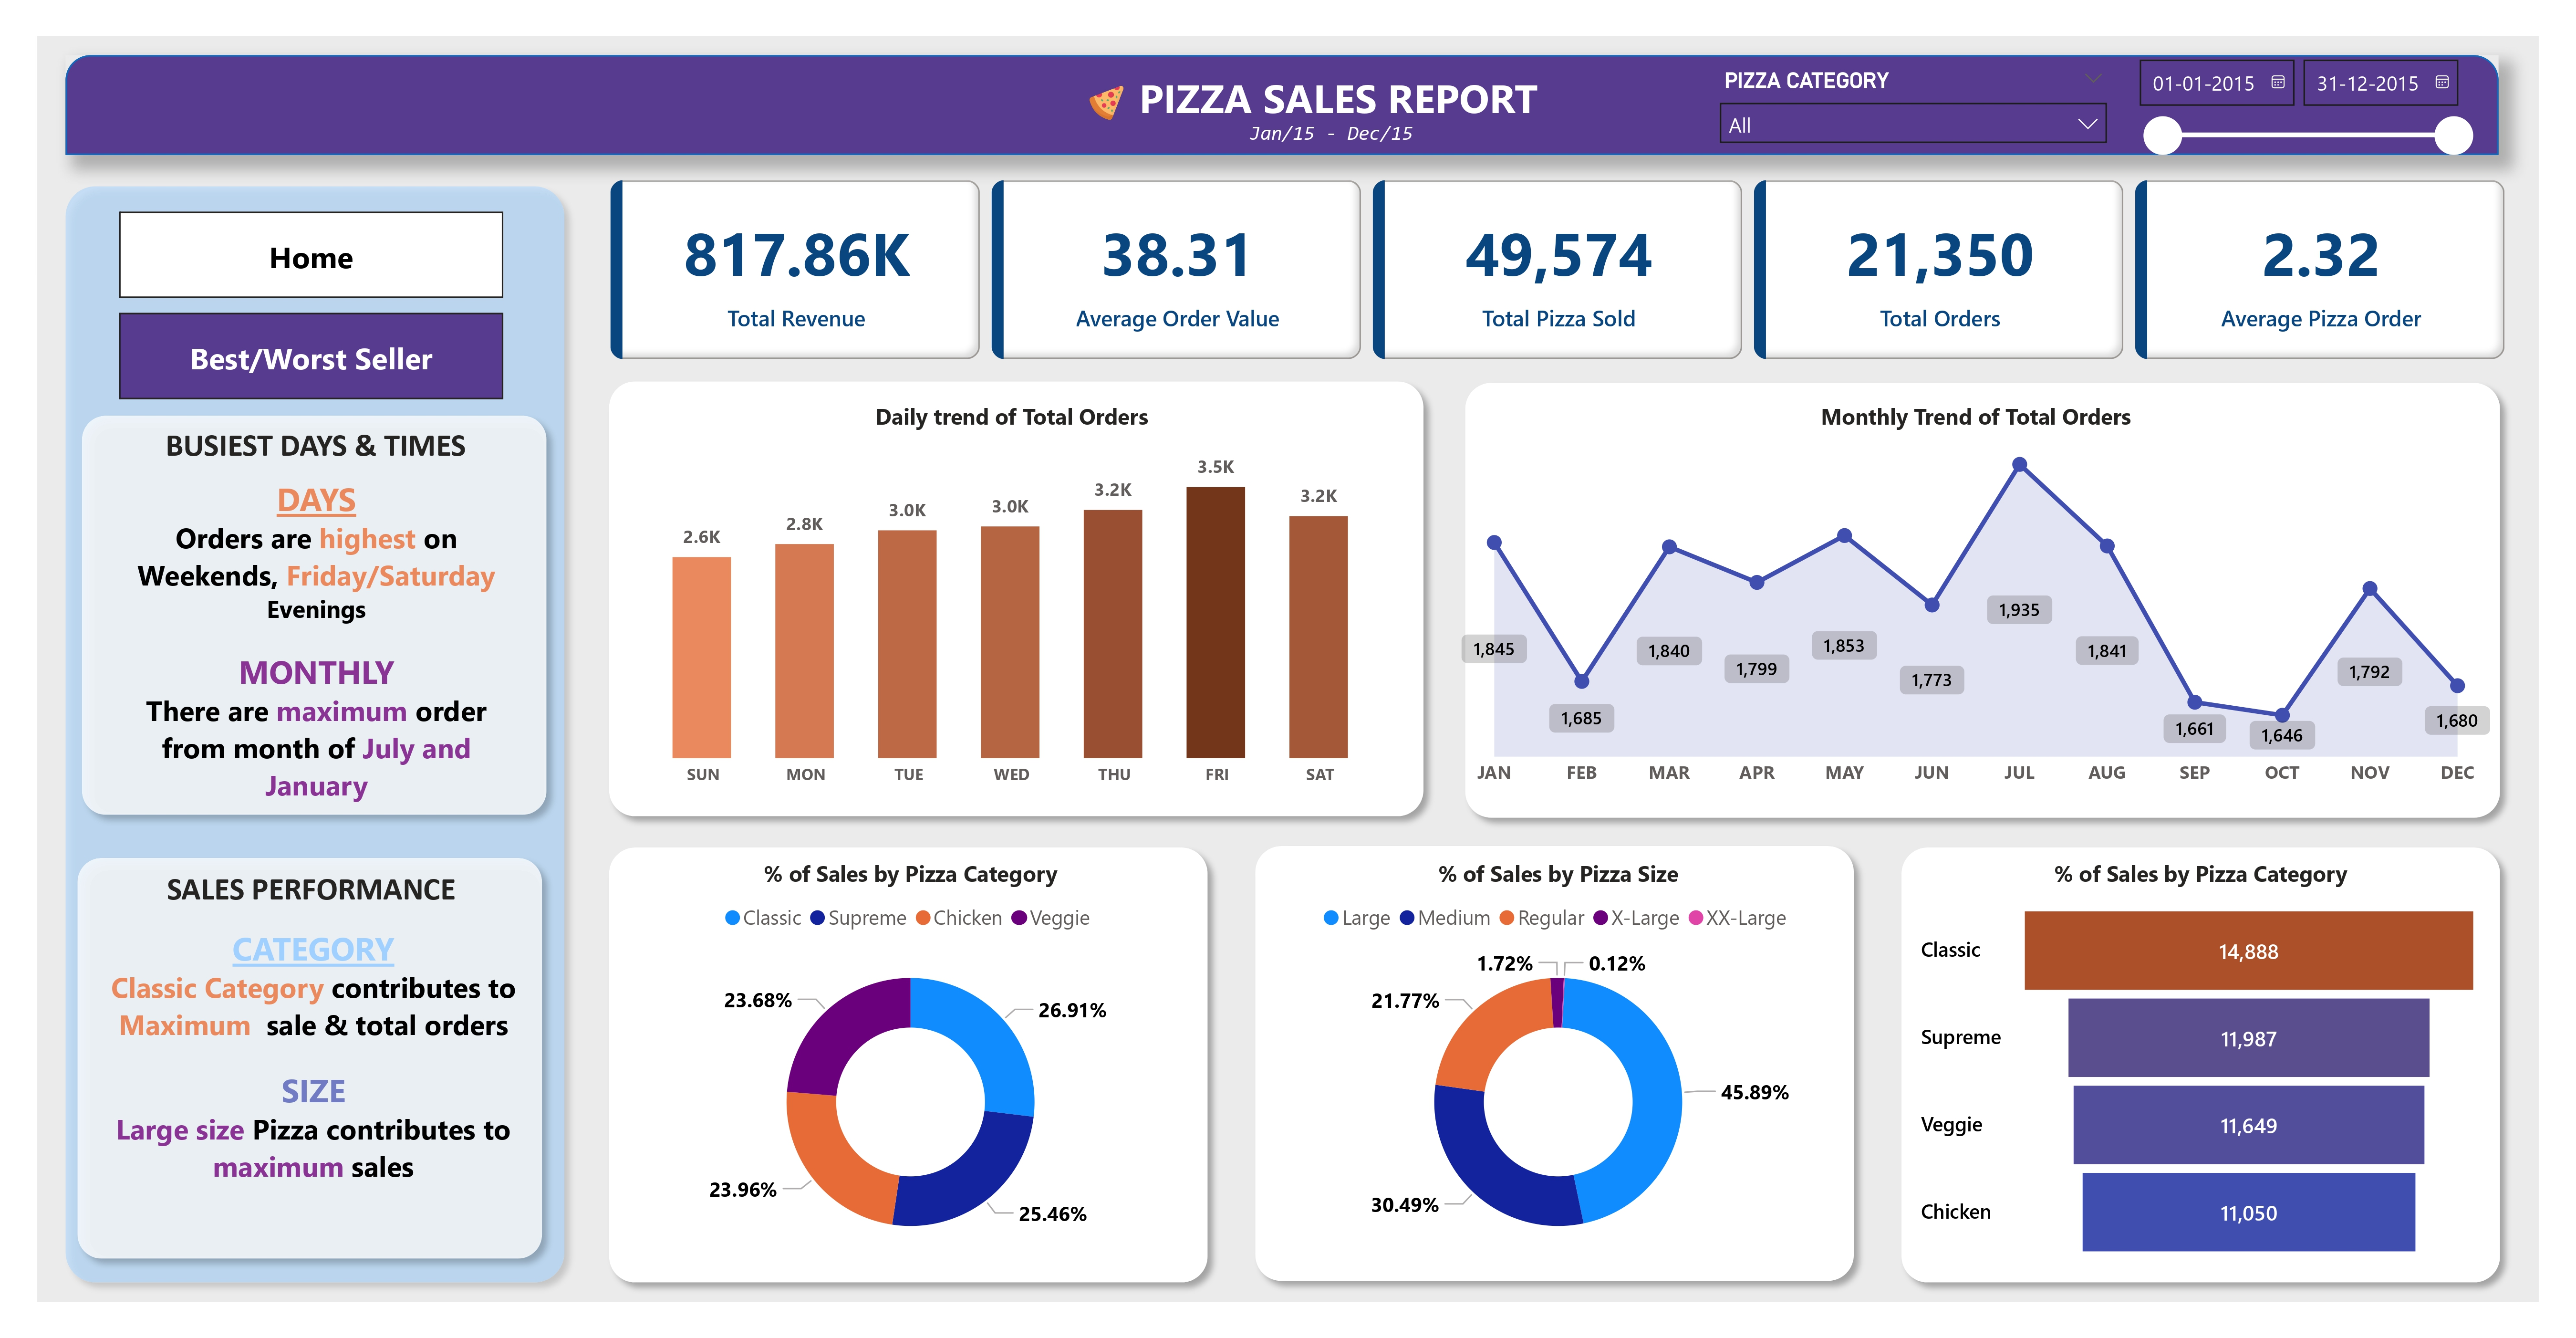

The page's visual inventory and layout, read from the dashboard file:
{"tool":"powerbi","page":{"name":"Home","canvas":[1680,850],"ordinal":0},"visuals":[{"type":"cardVisual","fields":{"Data":["Meas.Total Revenue","Meas.Average Order Value","Meas.Total Pizza Sold","Meas.Total Orders","Meas.Average Pizza Order"]},"box":[379.8,92.2,1283.3,130],"z":0},{"type":"shape","box":[18.6,12.9,1634.3,67.1],"z":1000},{"type":"textbox","box":[735.4,18.3,288.9,64.4],"z":2000},{"type":"textbox","box":[808.7,50.6,142.2,33.3],"z":3000},{"type":"image","box":[700.9,25,34.4,38.9],"z":4000},{"type":"shape","box":[374.5,222.6,565,310.2],"z":5000},{"type":"clusteredColumnChart","title":"Daily trend of Total Orders","fields":{"Category":["Pizza_sale.Order Day"],"Y":["Meas.Total Orders"]},"box":[393.7,244.8,521.7,268.3],"z":6000},{"type":"shape","box":[949.8,223.9,713.3,310],"z":7000},{"type":"stackedAreaChart","title":"Monthly Trend of Total Orders","fields":{"Category":["Pizza_sale.Order Month"],"Y":["Meas.Total Orders"]},"box":[950.3,244.8,703.3,268.3],"z":8000},{"type":"shape","box":[374.8,535.6,420,310],"z":9000},{"type":"shape","box":[809,535.2,420,310],"z":10000},{"type":"shape","box":[1243.2,535.6,420,310],"z":11000},{"type":"donutChart","title":"% of Sales by Pizza Category","fields":{"Category":["Pizza_sale.pizza_category"],"Y":["Meas.Total Revenue"]},"box":[393.2,552.2,386.7,278.3],"z":12000},{"type":"donutChart","title":"% of Sales by Pizza Size","fields":{"Y":["Meas.Total Revenue"],"Category":["Pizza_sale.pizza_size"]},"box":[828.2,552.2,386.7,278.3],"z":13000},{"type":"funnel","title":"% of Sales by Pizza Category","fields":{"Category":["Pizza_sale.pizza_category"],"Y":["Meas.Total Pizza Sold"]},"box":[1259.8,552.2,386.7,278.3],"z":14000},{"type":"shape","box":[9.8,92.2,353.3,753.3],"z":15000},{"type":"shape","box":[21.5,245.6,330,286.7],"z":16000},{"type":"textbox","box":[68.2,257.2,238.3,41.7],"z":17000},{"type":"textbox","box":[44.8,290.6,285,236.7],"z":18000},{"type":"shape","box":[18.2,543,330,286.7],"z":19000},{"type":"textbox","box":[64.8,554.7,238.3,41.7],"z":20000},{"type":"textbox","box":[43.2,593,285,216.7],"z":21000},{"type":"slicer","fields":{"Values":["Pizza_sale.pizza_category"]},"box":[1120,16.7,280,60],"z":22000},{"type":"slicer","fields":{"Values":["Pizza_sale.order_date"]},"box":[1398.6,5.7,245.7,82.9],"z":23000},{"type":"pageNavigator","box":[55,118.3,258.3,126.7],"z":23001}]}

Visuals, with their boxes on the page's 1680x850 design canvas (x1, y1, x2, y2). These are canvas units, not pixel positions in the 2576x1338 screenshot, which may show the page scaled, cropped or inside an application window:
cardVisual - Meas.Total Revenue x Meas.Average Order Value: box(380, 92, 1663, 222)
shape: box(19, 13, 1653, 80)
textbox: box(735, 18, 1024, 83)
textbox: box(809, 51, 951, 84)
image: box(701, 25, 735, 64)
shape: box(374, 223, 940, 533)
"Daily trend of Total Orders" clusteredColumnChart: box(394, 245, 915, 513)
shape: box(950, 224, 1663, 534)
"Monthly Trend of Total Orders" stackedAreaChart: box(950, 245, 1654, 513)
shape: box(375, 536, 795, 846)
shape: box(809, 535, 1229, 845)
shape: box(1243, 536, 1663, 846)
"% of Sales by Pizza Category" donutChart: box(393, 552, 780, 830)
"% of Sales by Pizza Size" donutChart: box(828, 552, 1215, 830)
"% of Sales by Pizza Category" funnel: box(1260, 552, 1646, 830)
shape: box(10, 92, 363, 846)
shape: box(22, 246, 352, 532)
textbox: box(68, 257, 306, 299)
textbox: box(45, 291, 330, 527)
shape: box(18, 543, 348, 830)
textbox: box(65, 555, 303, 596)
textbox: box(43, 593, 328, 810)
slicer - Pizza_sale.pizza_category: box(1120, 17, 1400, 77)
slicer - Pizza_sale.order_date: box(1399, 6, 1644, 89)
pageNavigator: box(55, 118, 313, 245)
